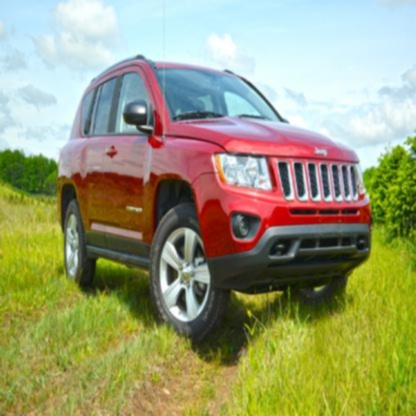Vehicle: (58, 56, 373, 341)
